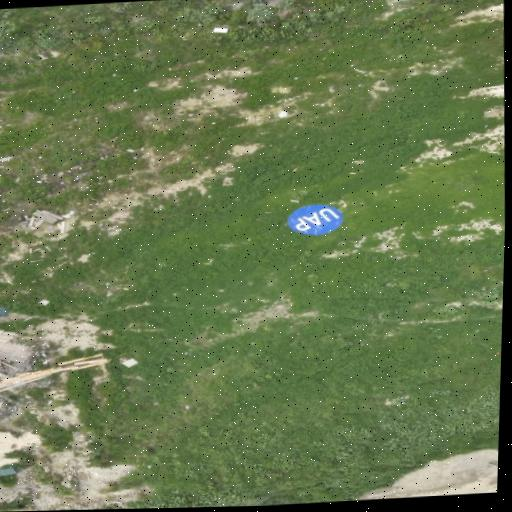uap: (286, 205, 341, 235)
